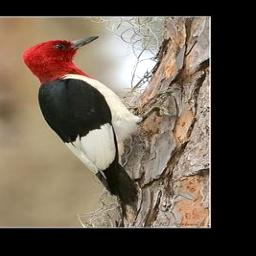Woodpecker: (19, 32, 179, 216)
